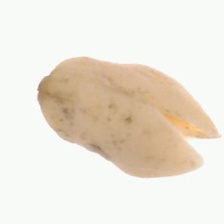L1: (164, 110, 221, 168), (35, 64, 57, 121)
L2: (36, 56, 219, 179)
